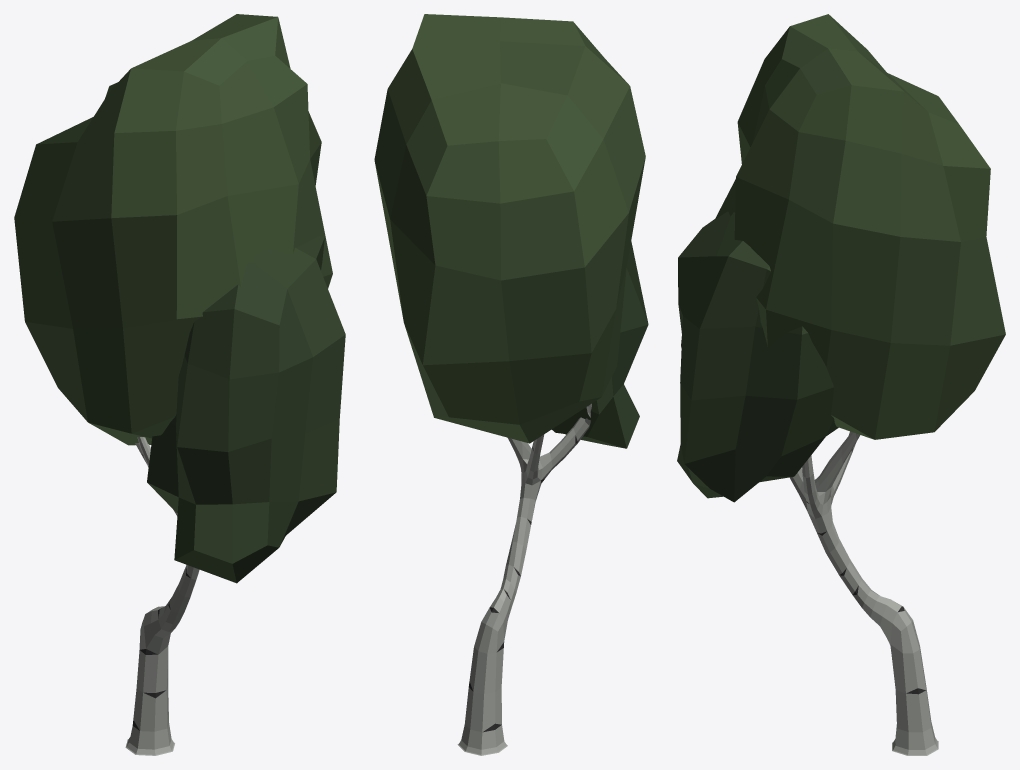
File: BirchTree_2.glb
3 renders of one model, left to right at view 1: azimuth 30°, elevation 25°; view 2: azimuth 150°, elevation 25°; view 3: azimuth 270°, elevation 25°, orthographic. The views are drawn at different scales.
Visible parts, largest first — view 1: BirchTree_2; view 2: BirchTree_2; view 3: BirchTree_2.
Boxes of the visible parts, bbox=[...] form: BirchTree_2: bbox=[14, 14, 345, 755]; BirchTree_2: bbox=[374, 14, 648, 755]; BirchTree_2: bbox=[677, 14, 1005, 755].
Size of the model in its own units: 1.47 by 4.03 by 1.69.
